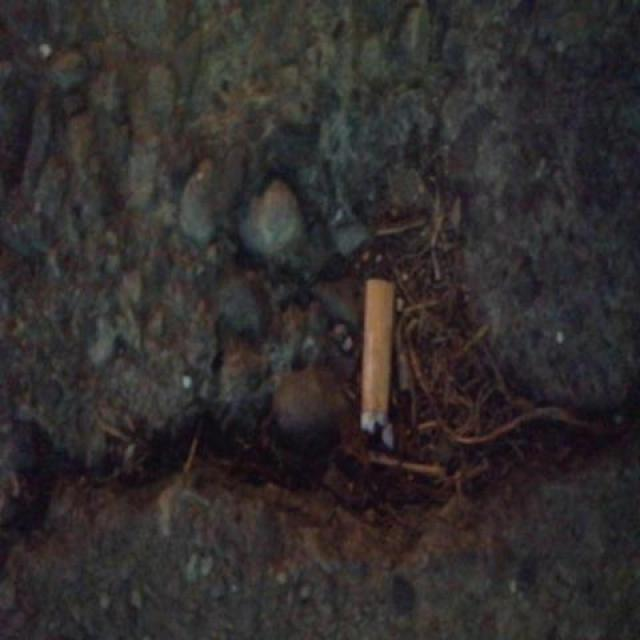non-organic waste: (357, 272, 399, 455)
